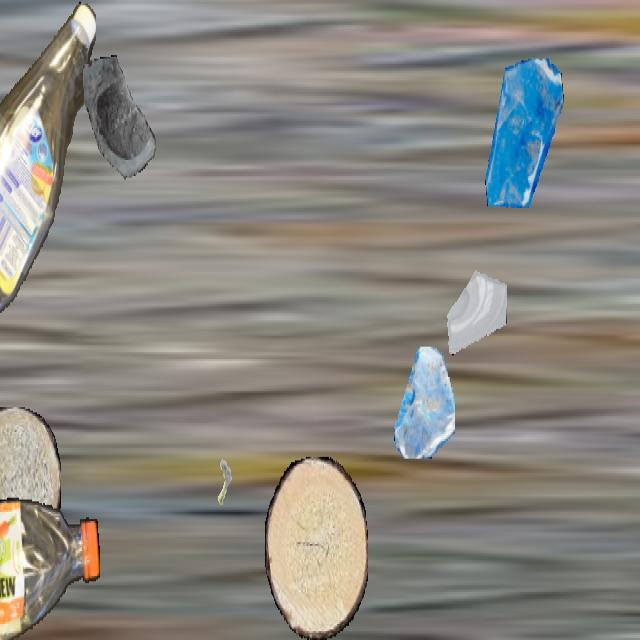glass: (482, 59, 566, 208), (83, 55, 165, 201), (392, 347, 454, 457), (446, 249, 506, 355)
metal: (202, 454, 242, 524)
plastic: (0, 2, 96, 314), (0, 496, 100, 638)
wood: (265, 457, 367, 638), (0, 407, 61, 557)
